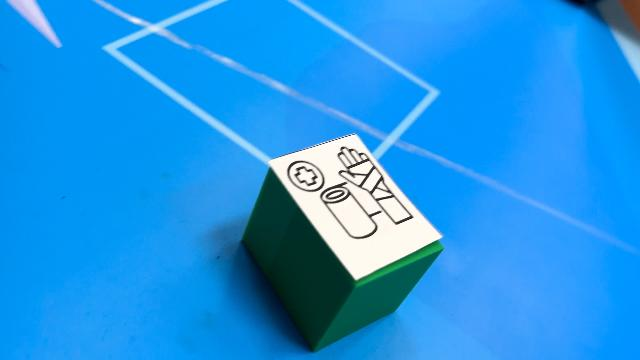bandage: (240, 132, 444, 352)
